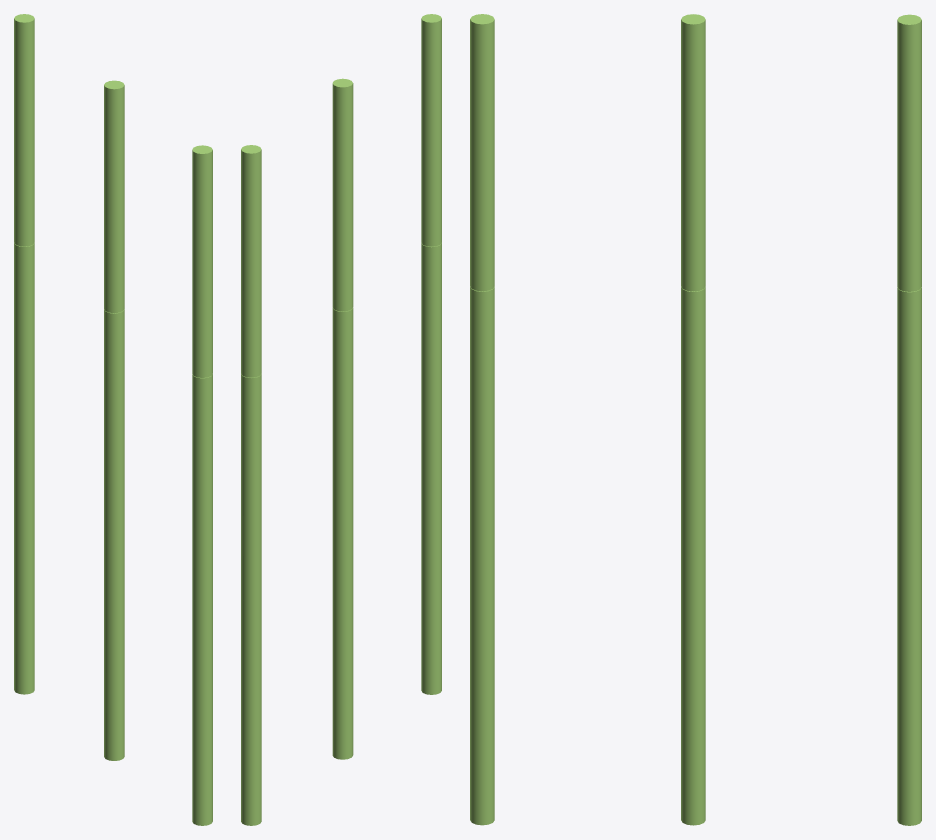
The model's file is Wall_Arc_08D_Lod0.fbx.
3 renders of one model, left to right at view 1: azimuth 30°, elevation 25°; view 2: azimuth 150°, elevation 25°; view 3: azimuth 270°, elevation 25°, orthographic. The views are drawn at different scales.
Parts seen in each view (by area): view 1: Wall_Arc_08D_Lod0; view 2: Wall_Arc_08D_Lod0; view 3: Wall_Arc_08D_Lod0.
Part boxes in pixels (x1,y1,x2,y2): Wall_Arc_08D_Lod0: (14,14,212,825); Wall_Arc_08D_Lod0: (241,14,441,825); Wall_Arc_08D_Lod0: (470,14,921,825).
Size of the model in its own units: 24.95 by 847 by 433.
